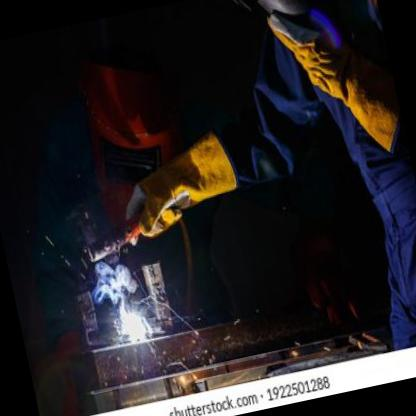Gloves: (263, 0, 406, 171), (107, 125, 248, 246)
